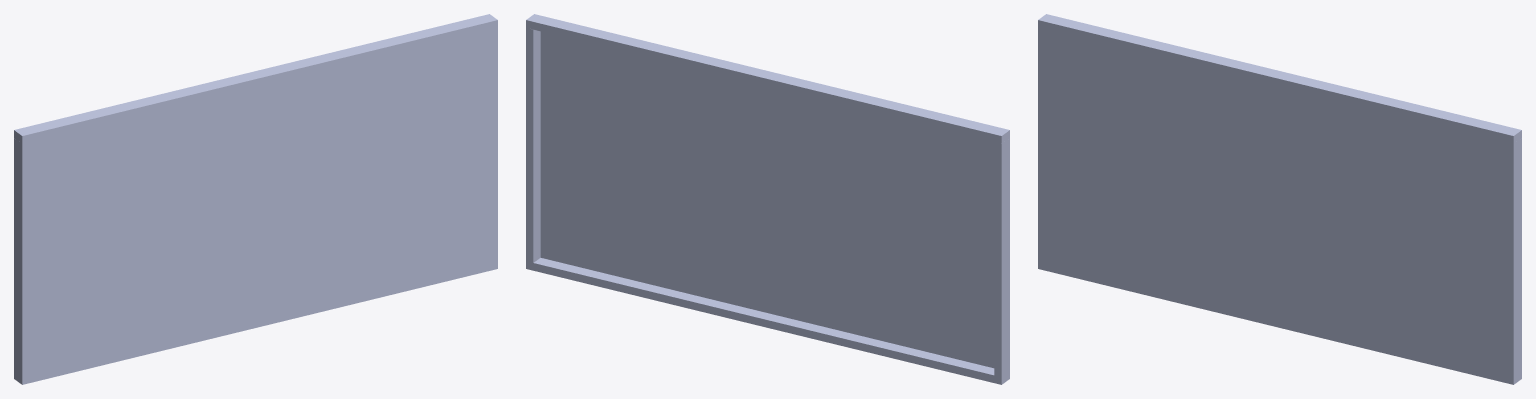
3 renders of one model, left to right at view 1: azimuth 30°, elevation 25°; view 2: azimuth 150°, elevation 25°; view 3: azimuth 330°, elevation 25°, orthographic.
Visible parts, largest first — view 1: NAUO1, NAUO5, NAUO4; view 2: NAUO1, NAUO5, NAUO2, NAUO4, NAUO3; view 3: NAUO1, NAUO5, NAUO3.
Part boxes in pixels (x1,y1,x2,y2): NAUO1: (21, 19, 497, 384); NAUO5: (14, 14, 496, 142); NAUO4: (14, 138, 21, 375); NAUO1: (533, 14, 1009, 379); NAUO5: (526, 15, 1008, 143); NAUO2: (526, 258, 1008, 384); NAUO4: (994, 139, 1008, 376); NAUO3: (526, 28, 540, 262); NAUO1: (1038, 19, 1514, 384); NAUO5: (1039, 14, 1521, 142); NAUO3: (1514, 138, 1521, 375).
Bounding box in the file's own units: 2.44 × 1.22 × 0.0735.
